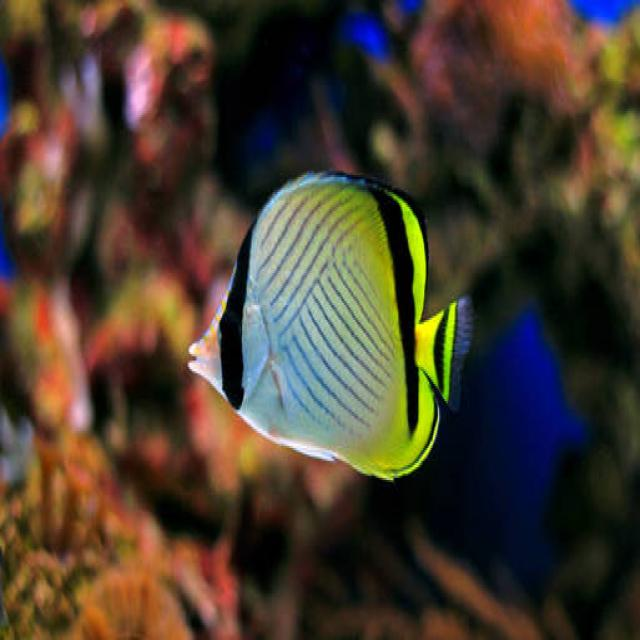ButterflyFish: (189, 172, 469, 480)
